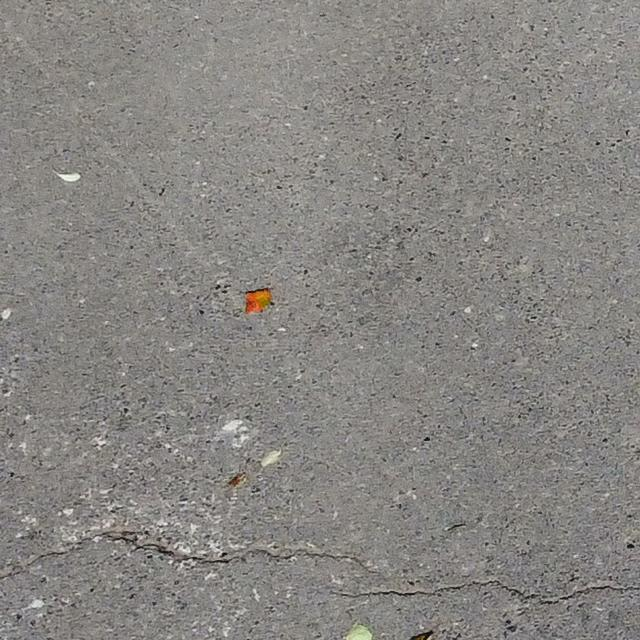TransverseCrack: (1, 527, 383, 580), (330, 578, 640, 605)
